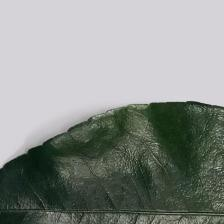healthy: (3, 100, 224, 223)
